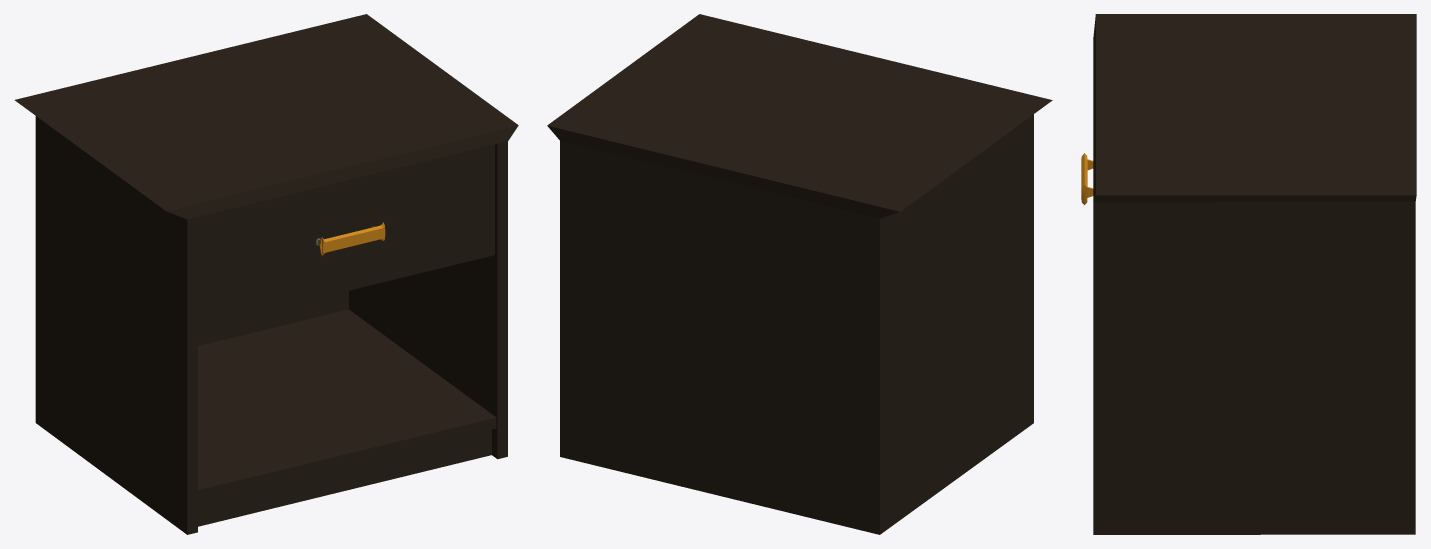
File: table-de-chevet.glb
The picture shows the model from 3 angles, left to right: view 1: azimuth 30°, elevation 25°; view 2: azimuth 150°, elevation 25°; view 3: azimuth 270°, elevation 25°; orthographic projection. The views are drawn at different scales.
Visible parts, largest first — view 1: node_id10, node_id15, node_id20; view 2: node_id10; view 3: node_id10, node_id20.
Boxes of the visible parts, x1,y1,x2,y2 form: node_id10: (14,14,518,534); node_id15: (198,144,494,327); node_id20: (317,222,385,255); node_id10: (547,14,1052,534); node_id10: (1093,14,1416,534); node_id20: (1081,153,1093,204).
Bounding box in the file's own units: 0.2208 × 0.1962 × 0.1724.
3 materials, 3 textured.
